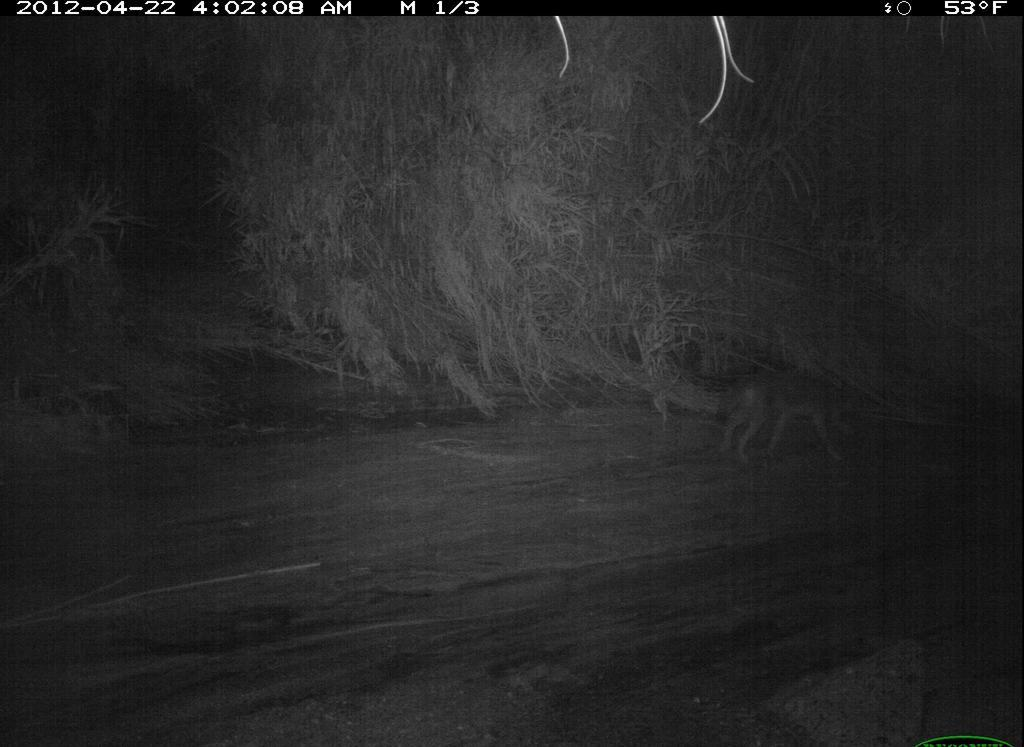coyote: (707, 363, 872, 475)
